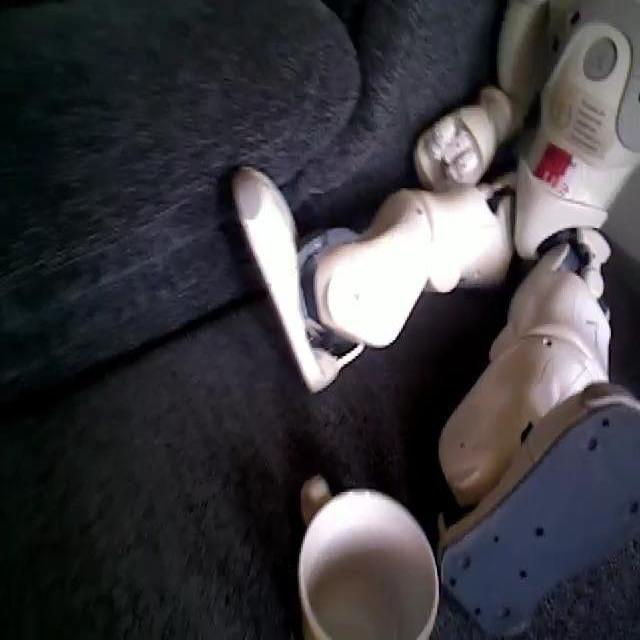cup: (286, 473, 460, 640)
